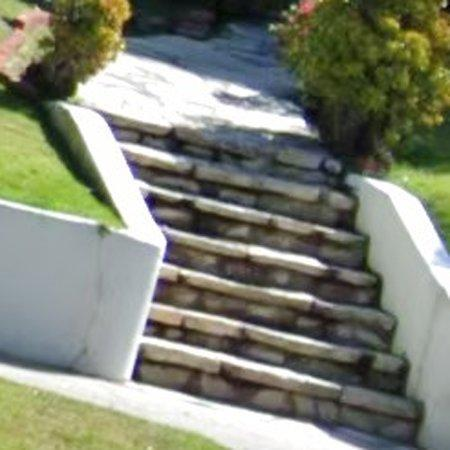stairs: (76, 24, 422, 449)
